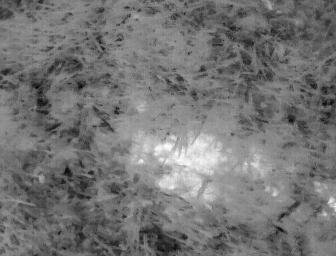landmine: (153, 142, 215, 189)
